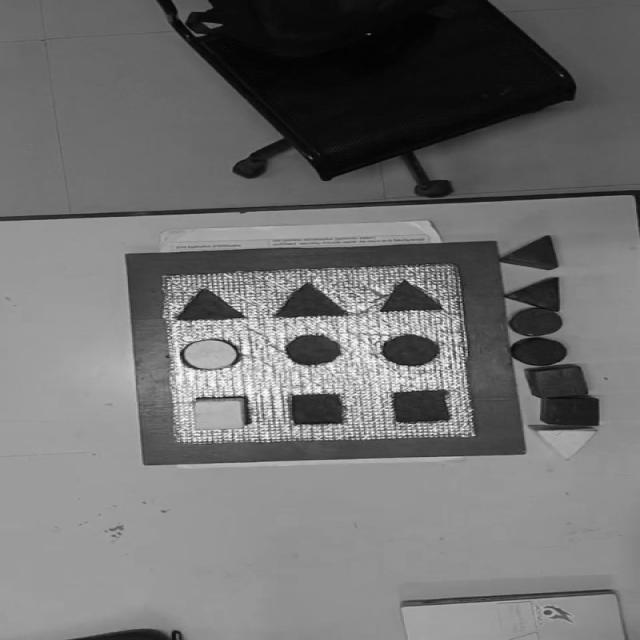bcircle: (508, 337, 568, 367)
btriangle: (503, 276, 563, 311)
mtcircle: (380, 334, 440, 366), (285, 333, 342, 365)
mtcube: (391, 389, 452, 424), (290, 392, 345, 425)
mttriangle: (274, 282, 349, 318), (174, 286, 248, 322), (376, 278, 446, 314), (389, 278, 413, 289)
rcircle: (509, 308, 563, 337)
rcube: (524, 363, 588, 398), (539, 395, 600, 426)
rtriangle: (498, 234, 560, 270)
wb: (160, 263, 476, 445)
ycircle: (178, 337, 242, 371)
ycube: (192, 396, 248, 431)
ytriangle: (530, 425, 597, 460)
